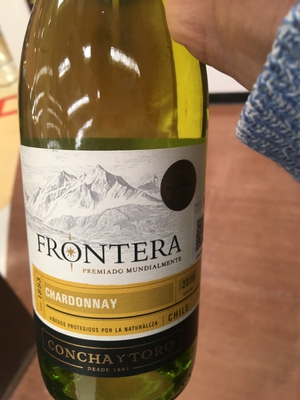frontera chardonnay: (20, 5, 216, 400)
